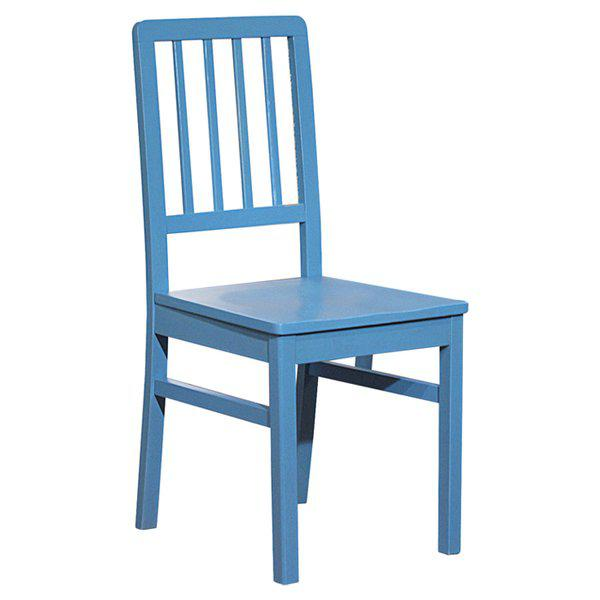chair: (96, 10, 498, 589)
